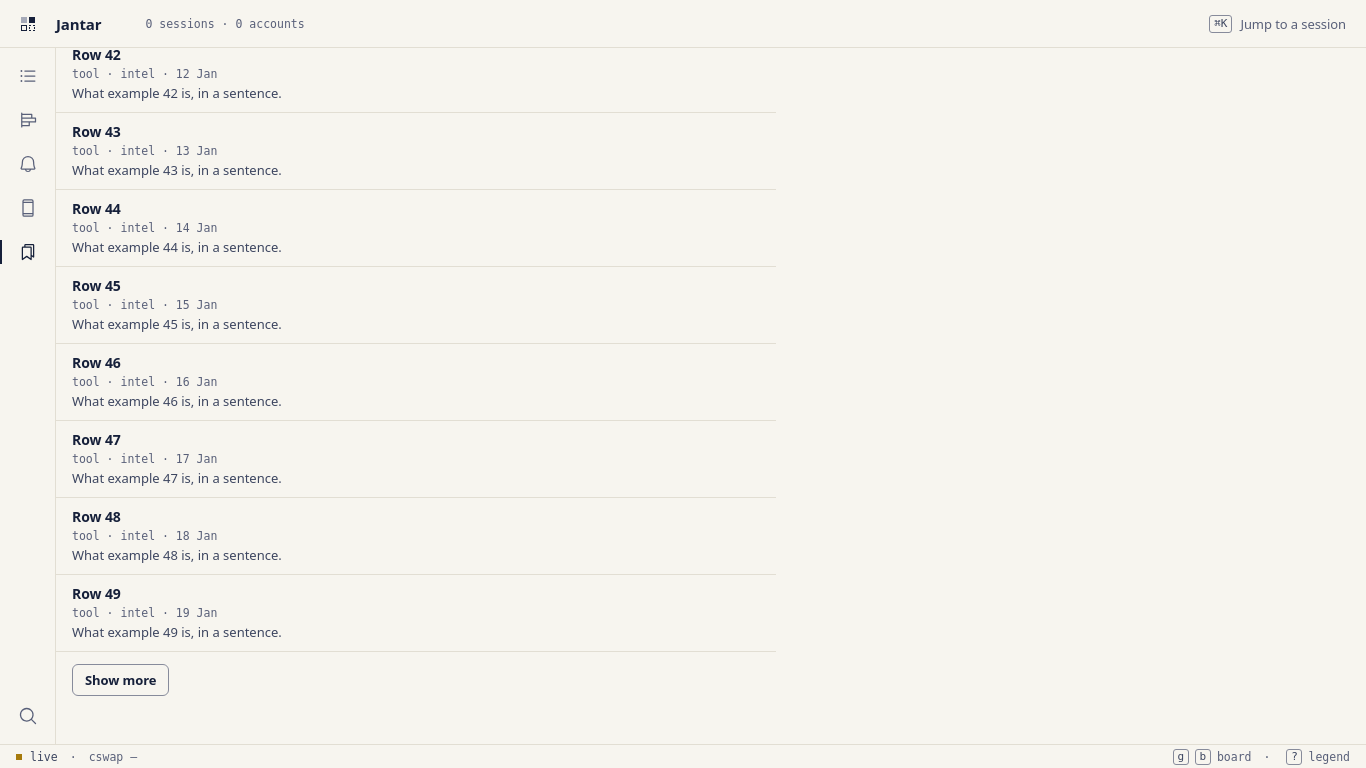
Test: the shelf › reloads when lifeTick moves, asking for the rows already shown
(page scrolled)
Click the button "Show more".
click(121, 680)  # box 72,664 -> 169,696
(page scrolled)
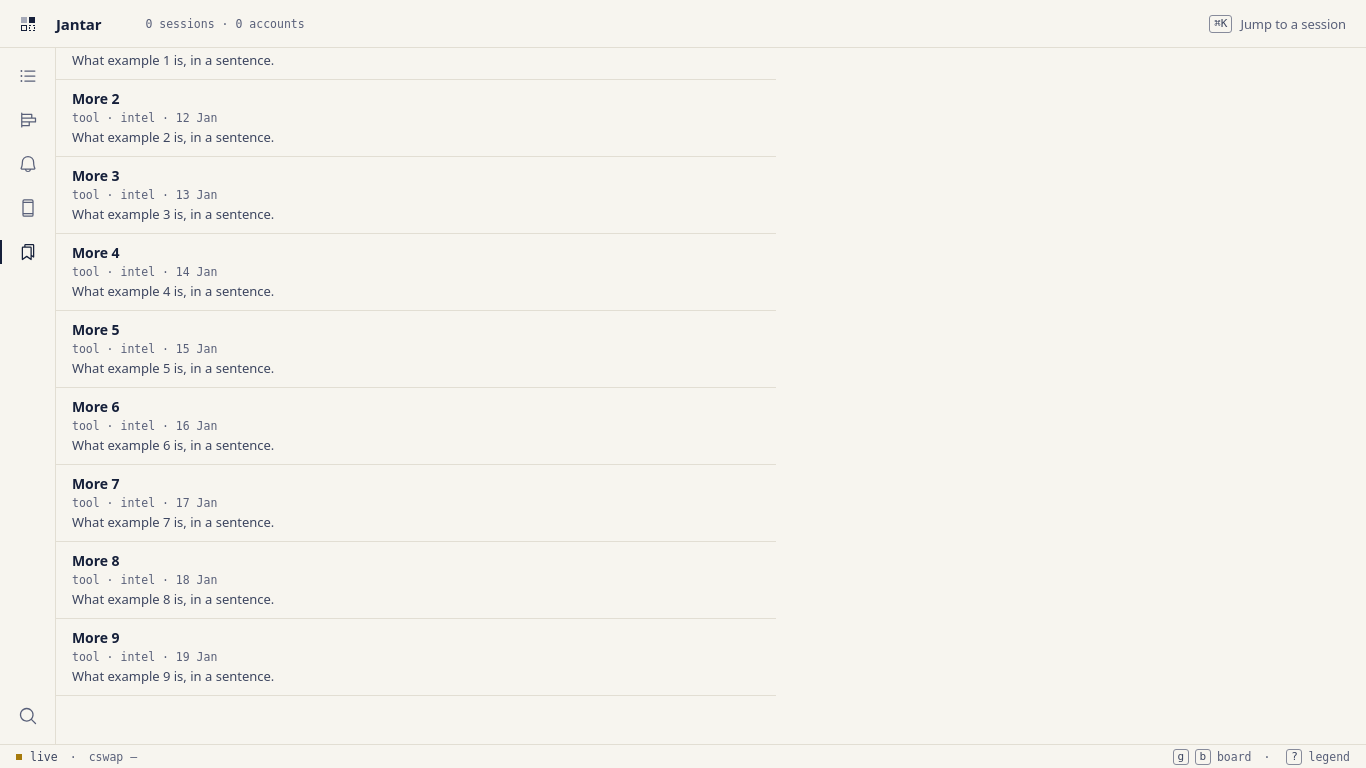
Expected: the text "More 9" is shown, 72,628 -> 119,647
